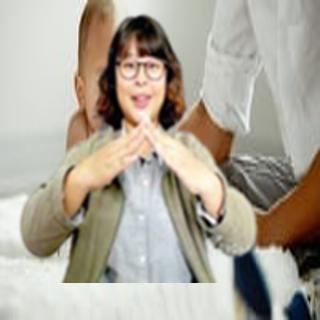HOME: (82, 112, 209, 195)
